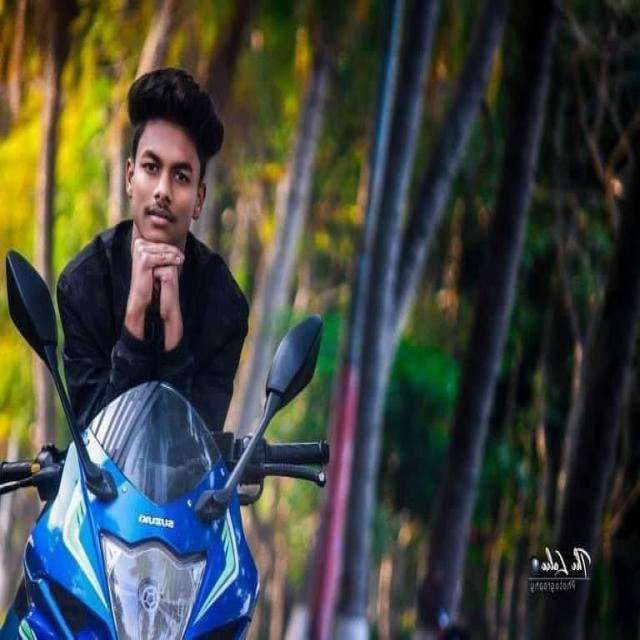No helmet: (119, 64, 221, 236)
